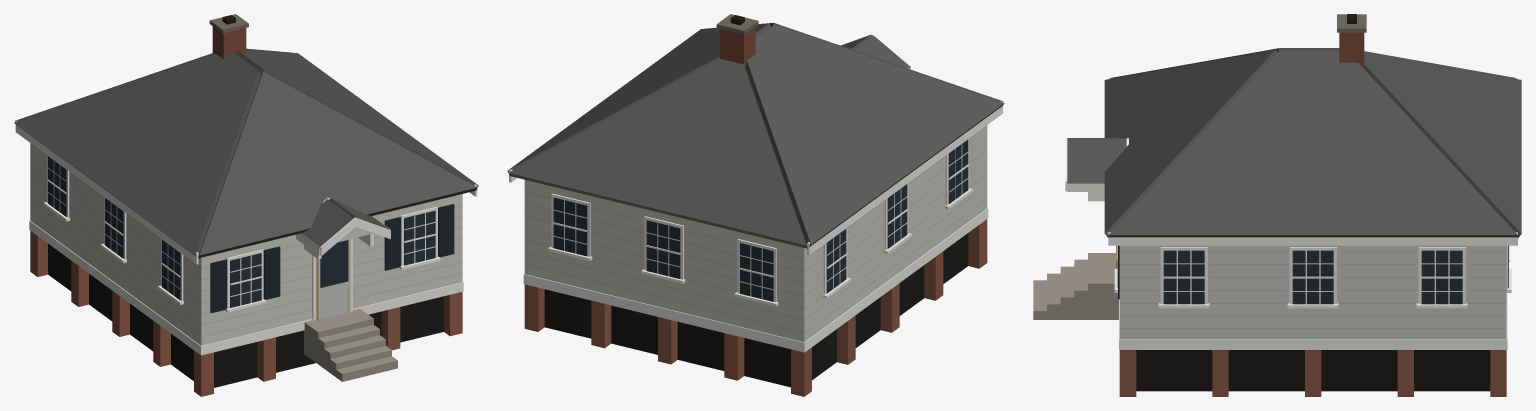
Rendered from small-frame-house-0001.glb.
3 views of the same model, side by side, from view 1: azimuth 30°, elevation 25°; view 2: azimuth 150°, elevation 25°; view 3: azimuth 270°, elevation 25° (orthographic). The views are drawn at different scales.
Visible parts, largest first — view 1: kit-small-frame-house-0001; view 2: kit-small-frame-house-0001; view 3: kit-small-frame-house-0001.
Boxes of the visible parts, left/top/right/bottom form: kit-small-frame-house-0001: left=14, top=14, right=478, bottom=396; kit-small-frame-house-0001: left=507, top=14, right=1004, bottom=396; kit-small-frame-house-0001: left=1033, top=14, right=1521, bottom=396.
Size of the model in its own units: 8.15 by 7.48 by 10.73.
